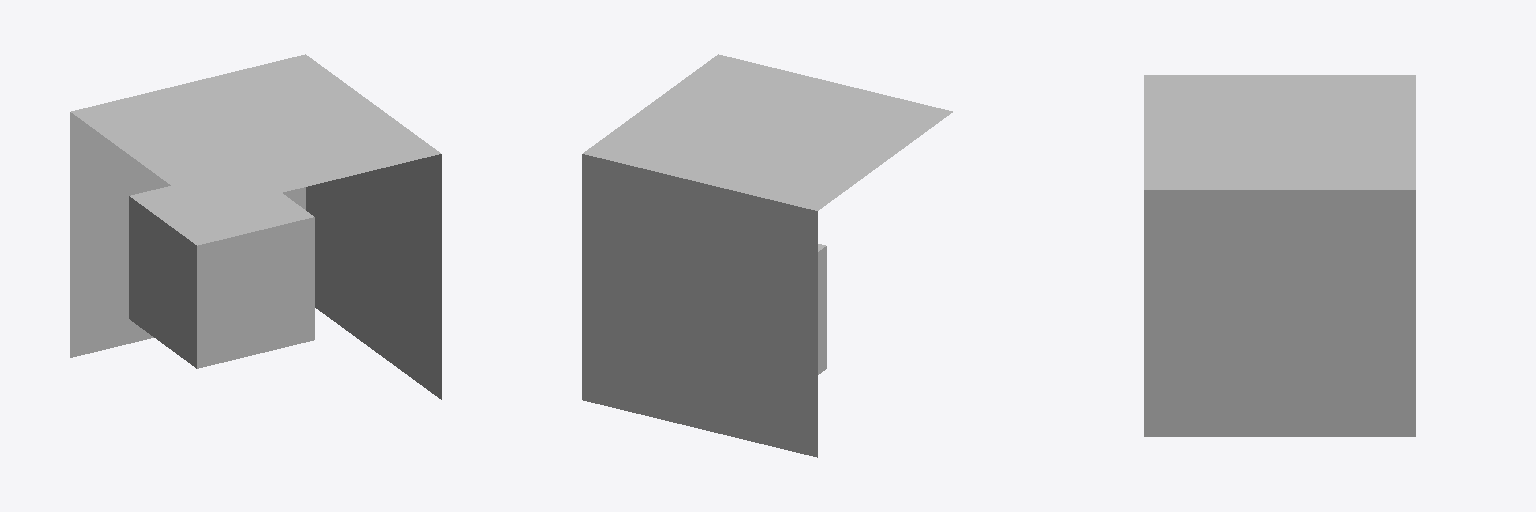
Rendered from cornell.obj.
The picture shows the model from 3 angles: view 1: azimuth 30°, elevation 25°; view 2: azimuth 150°, elevation 25°; view 3: azimuth 270°, elevation 25°; orthographic projection.
Parts seen in each view (by area): view 1: Cube, Cube.001; view 2: Cube, Cube.001; view 3: Cube.
Part boxes in pixels (bbox=[...]): Cube: bbox=[70, 54, 441, 399]; Cube.001: bbox=[129, 186, 314, 368]; Cube: bbox=[582, 54, 952, 457]; Cube.001: bbox=[641, 244, 826, 416]; Cube: bbox=[1144, 75, 1415, 436].
Size of the model in its own units: 2 by 2 by 2.